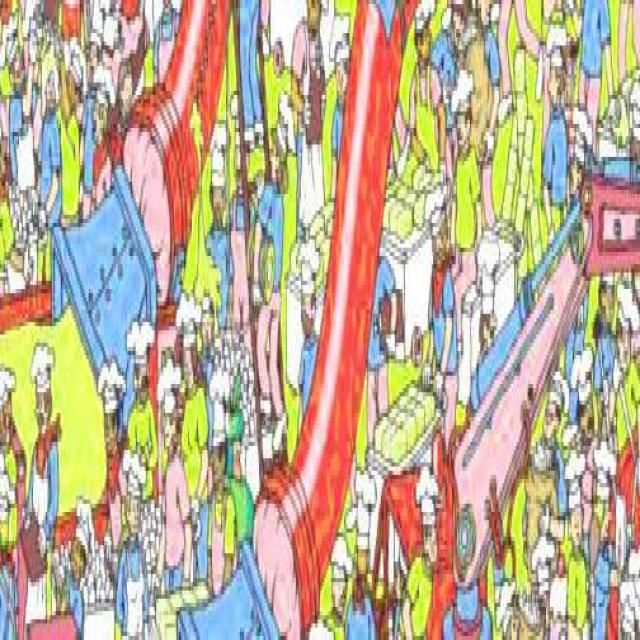waldo: (561, 33, 579, 99)
